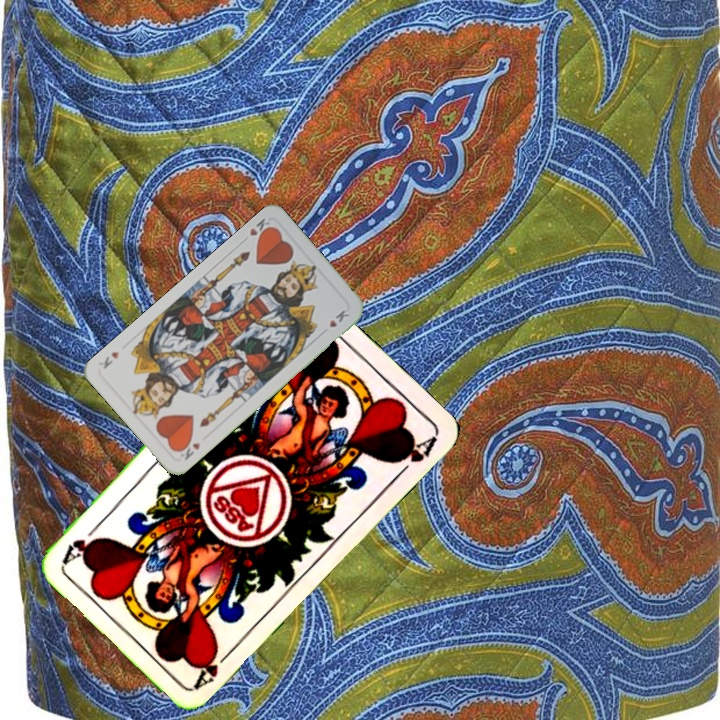HA: (190, 642, 238, 691)
HK: (237, 214, 276, 246), (173, 436, 203, 463)
